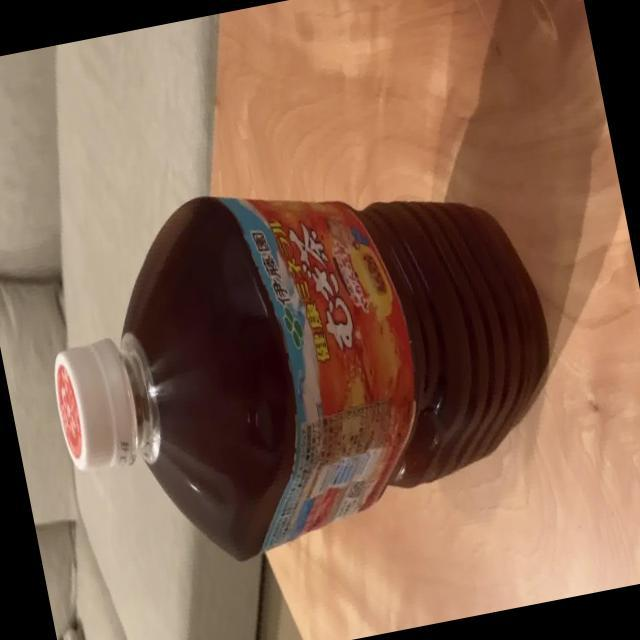good: (19, 135, 578, 594)
